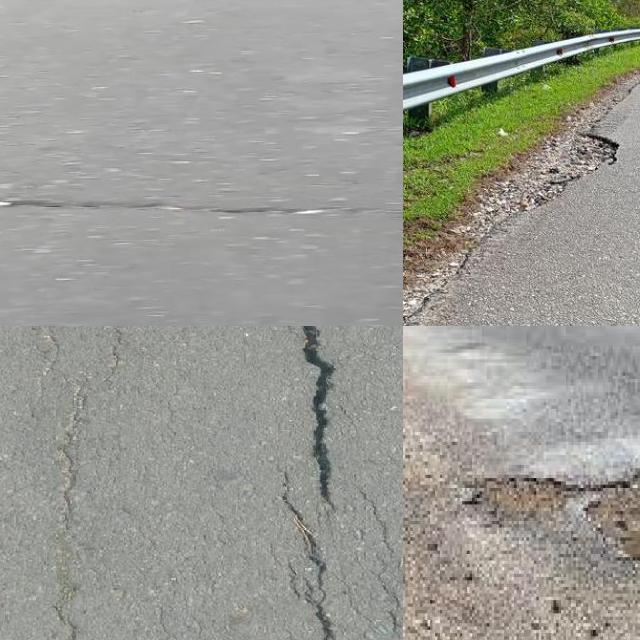Lubang: (457, 479, 577, 529)
Melintang: (0, 189, 378, 222)
Memanjang: (290, 326, 346, 532)
Pinggir: (403, 105, 636, 326)
